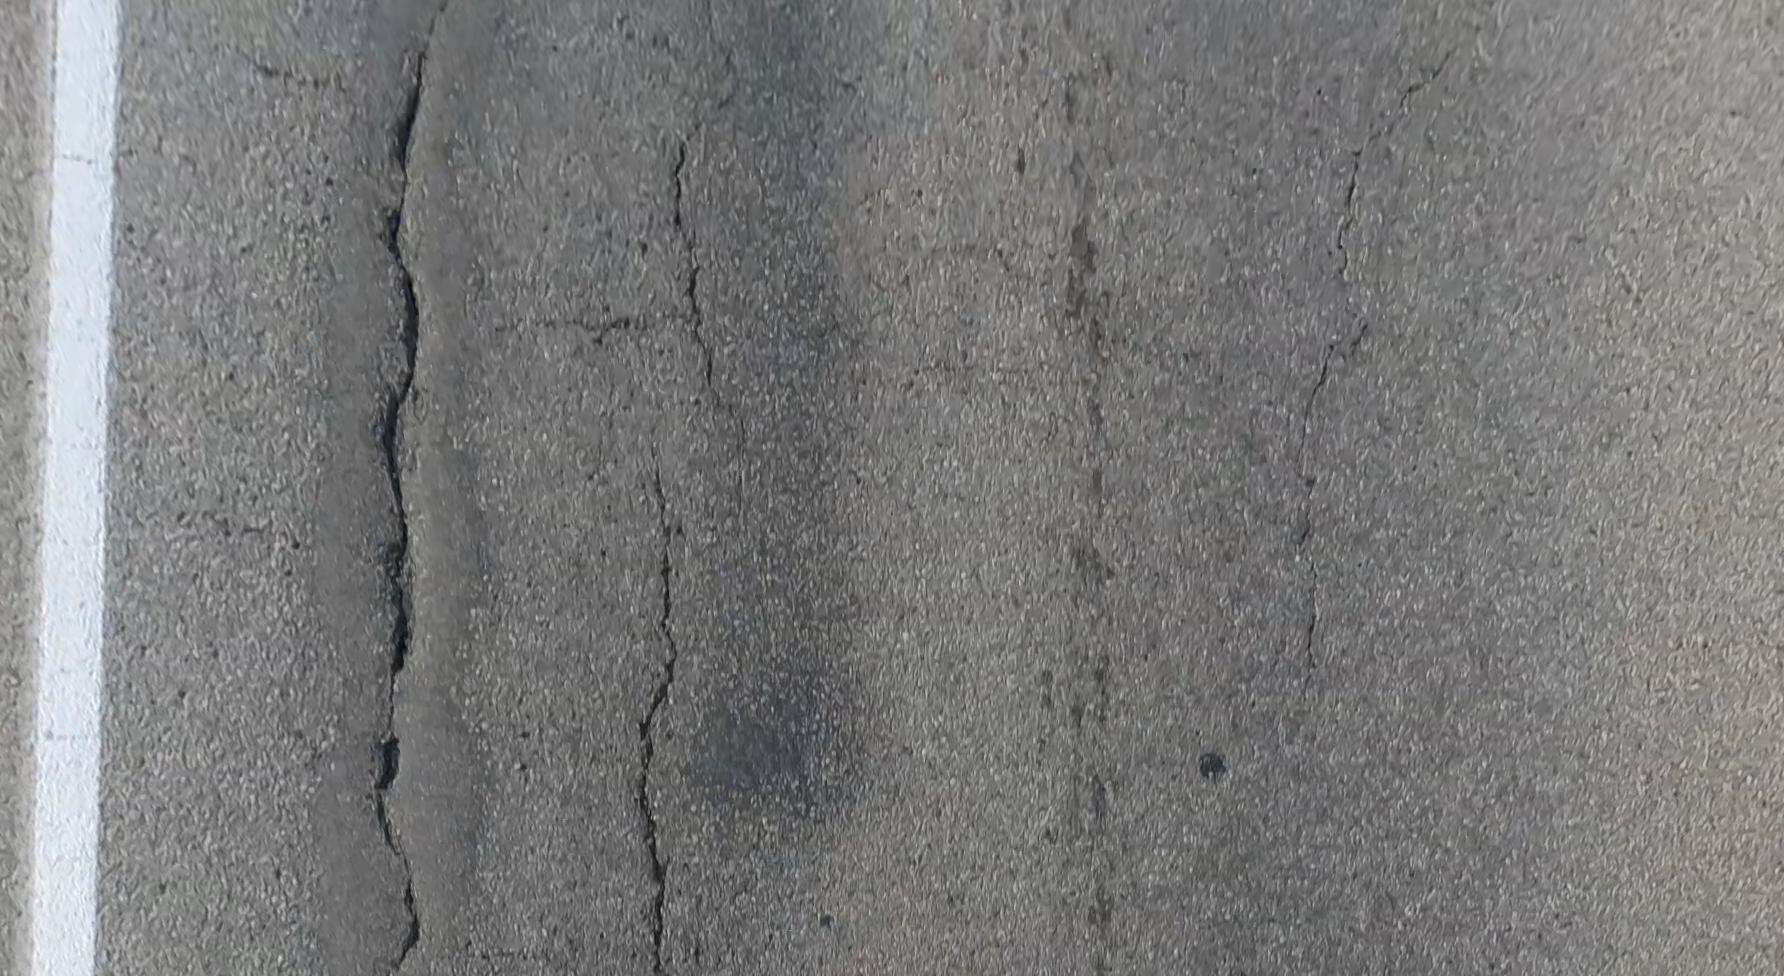pothole_patch_poor: (309, 0, 513, 976)
